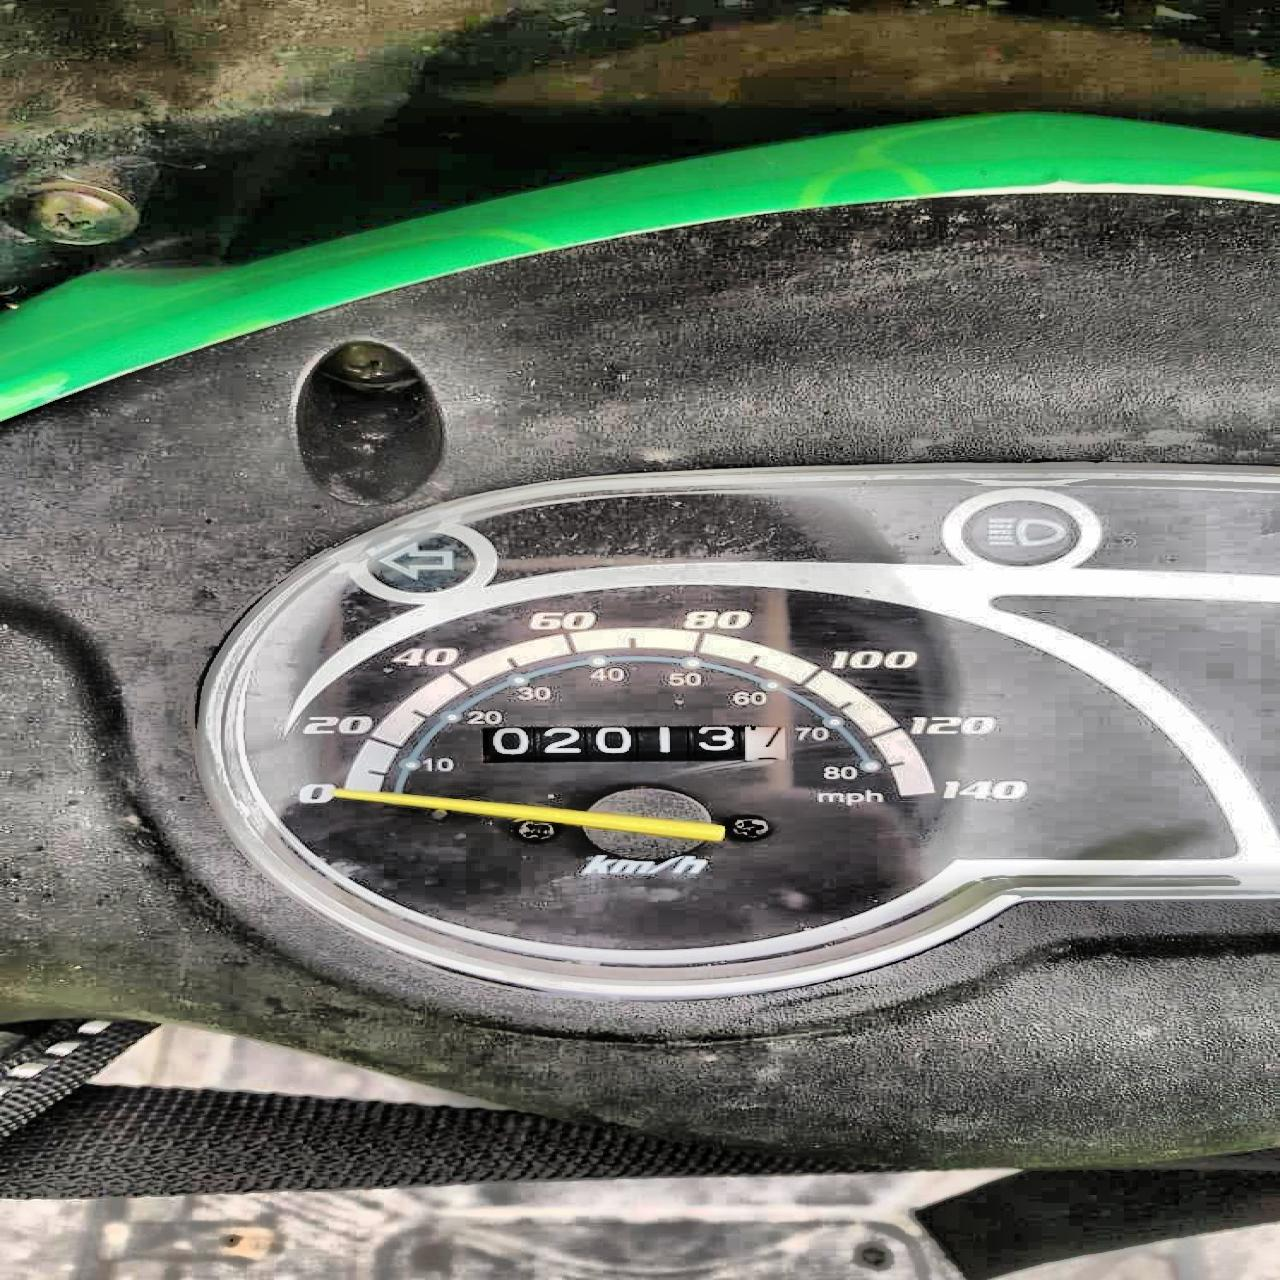0: (593, 726, 634, 754), (492, 726, 531, 755)
1: (653, 723, 673, 757)
2: (539, 726, 583, 756)
3: (694, 724, 734, 753)
7: (745, 724, 784, 747)
odometer: (476, 723, 791, 765)
